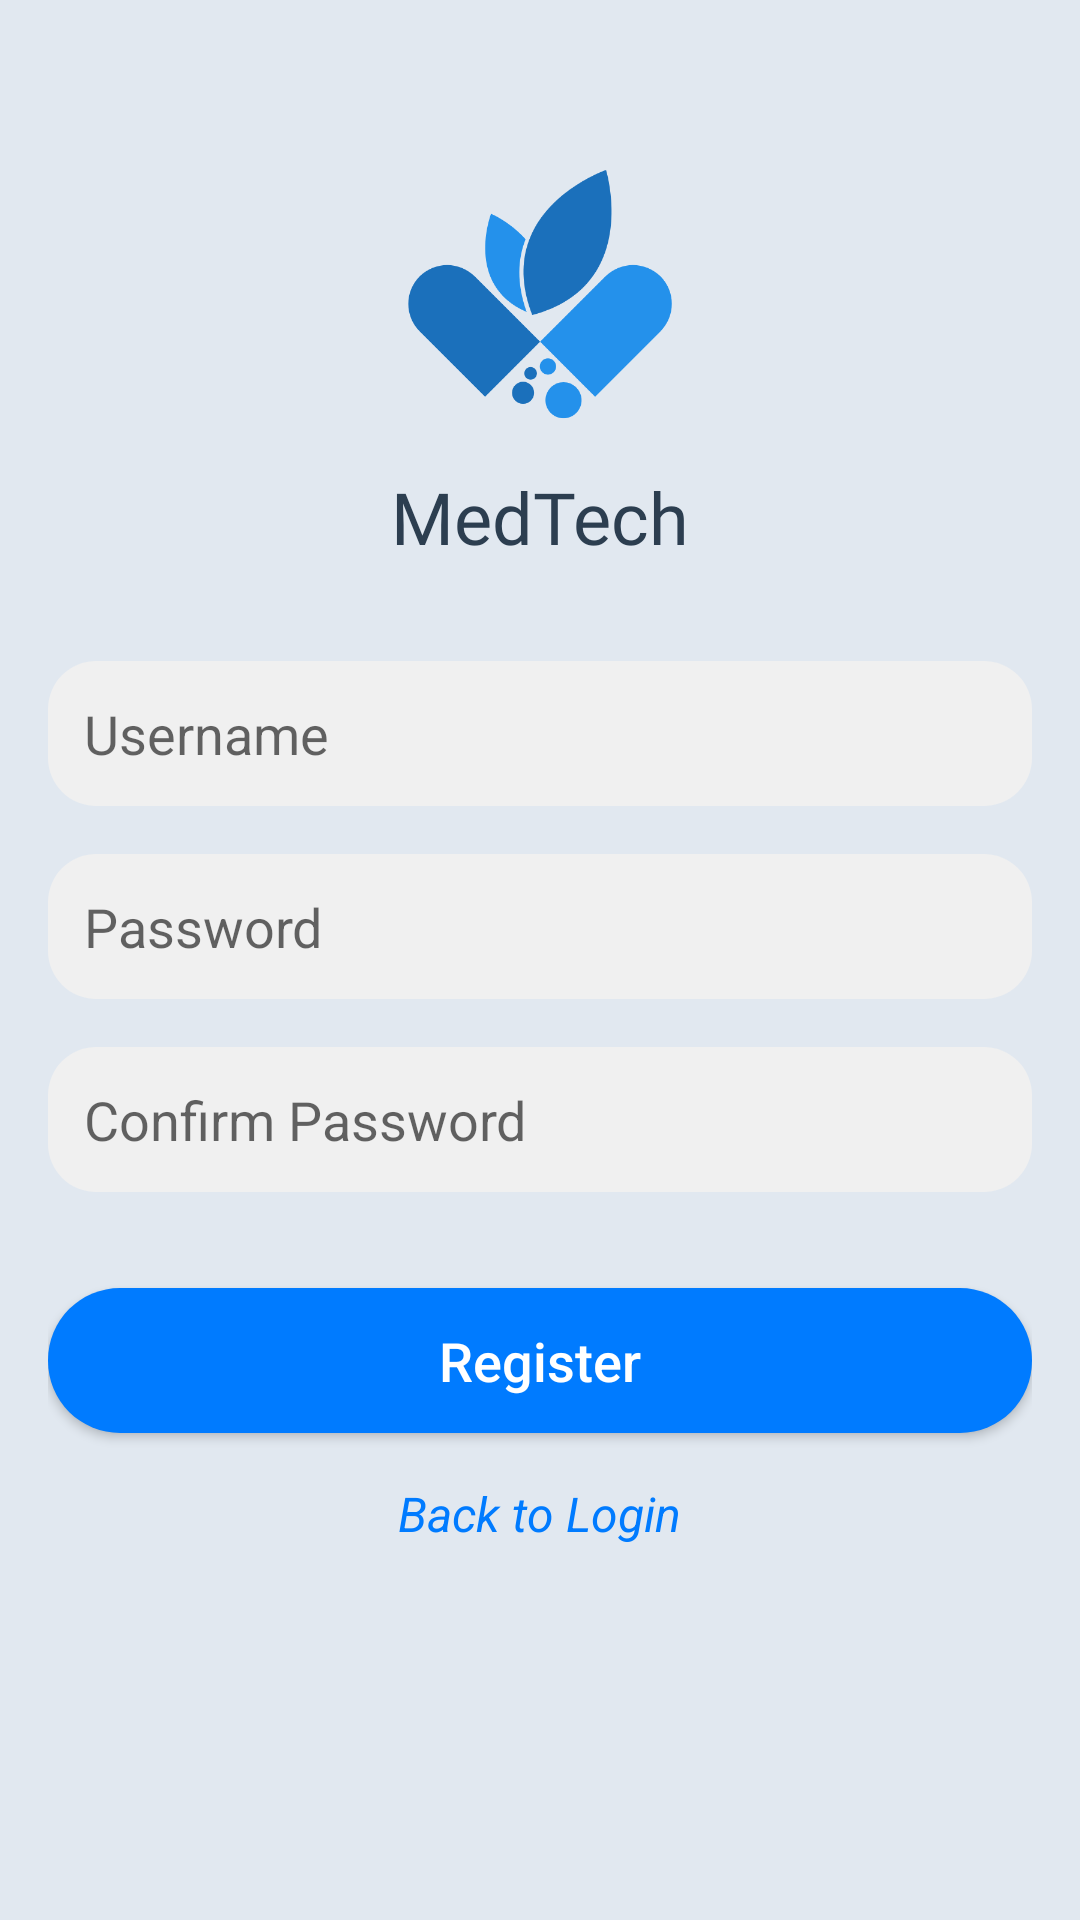

Icons on this 1080 x 1920 Android screen, each with the point to tap as (x,y):
App Icon: (540,294)
